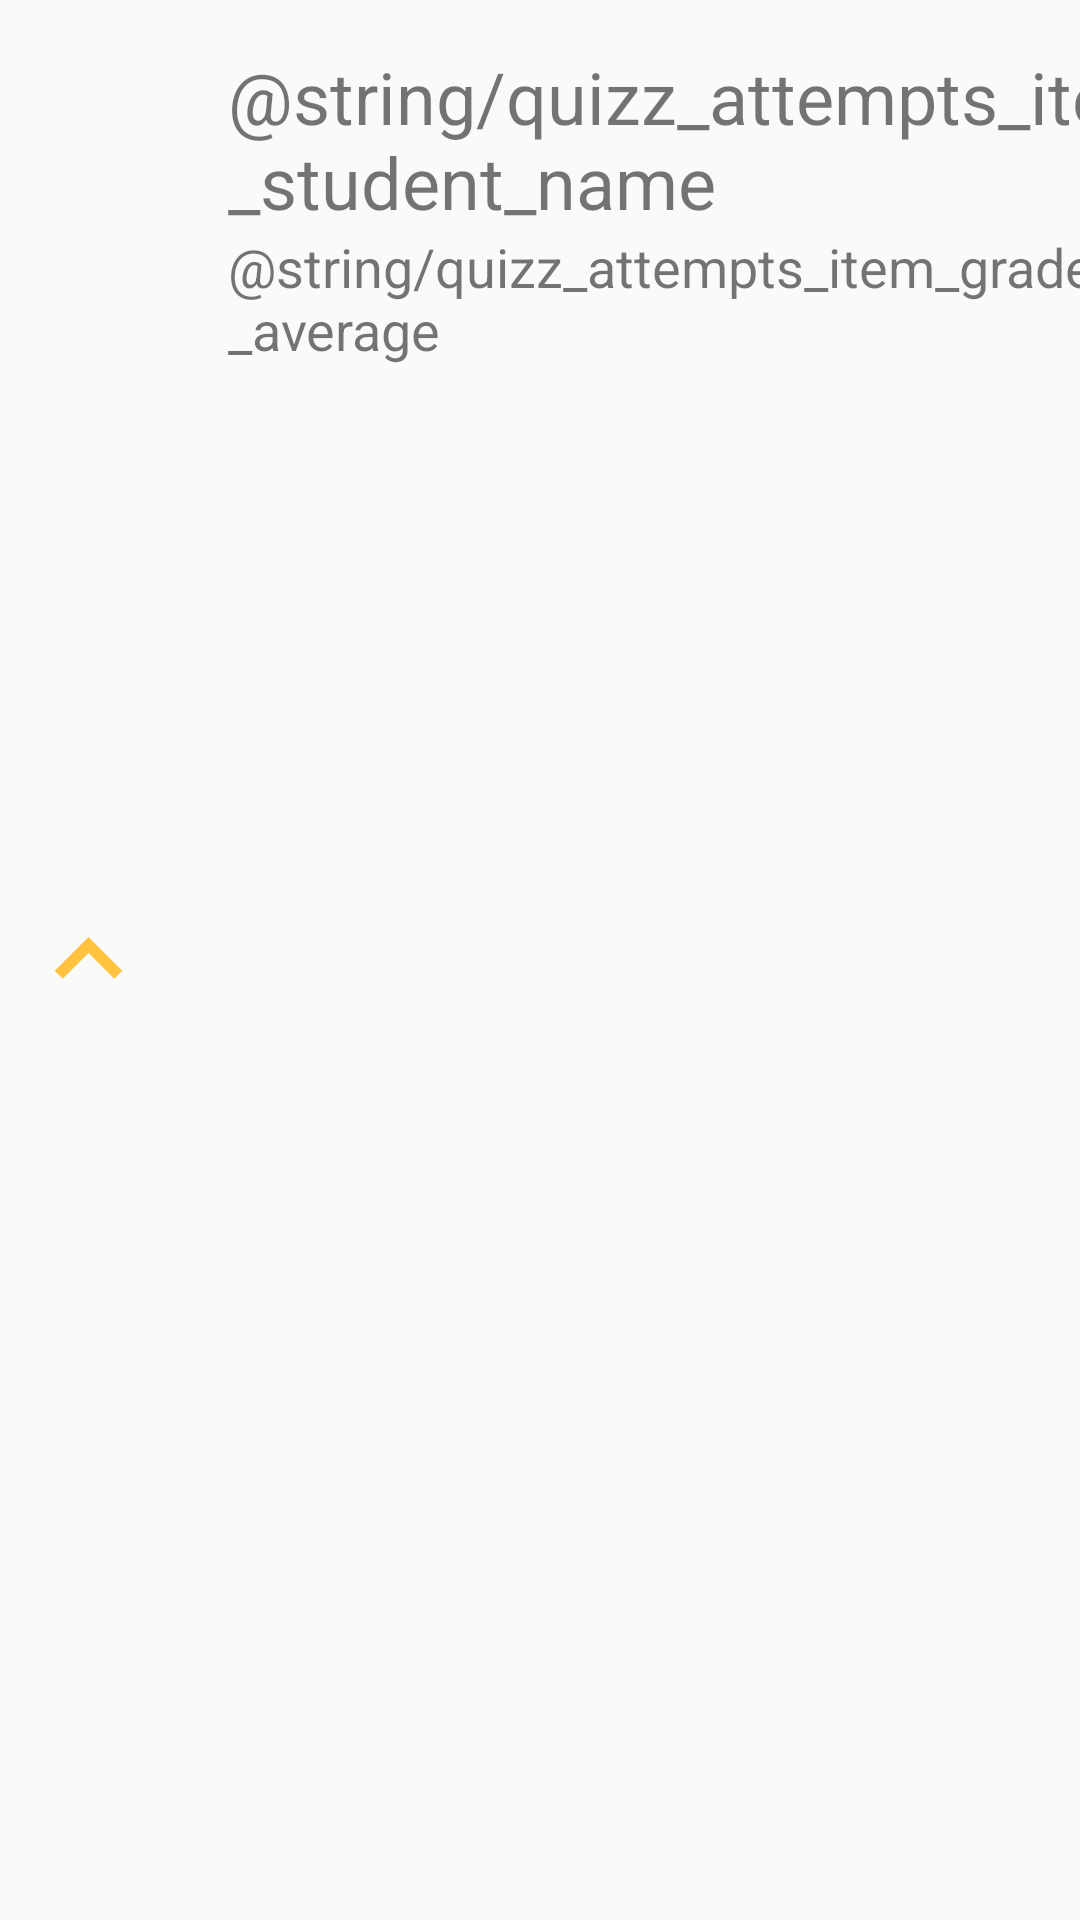

Point at icon controls on the screen. Image size 1080w x 1920h, points as (x=x, y=y).
drop down image: (x=88, y=958)
